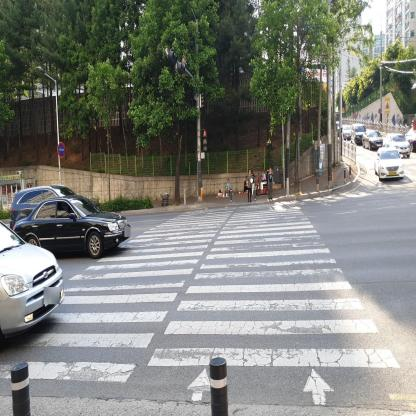Red: (203, 128, 208, 150)
